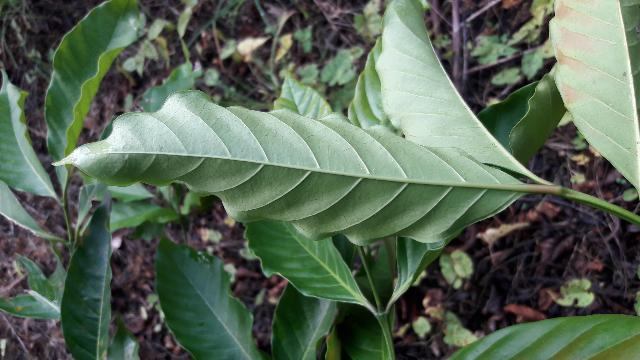healthy: (54, 88, 530, 247)
